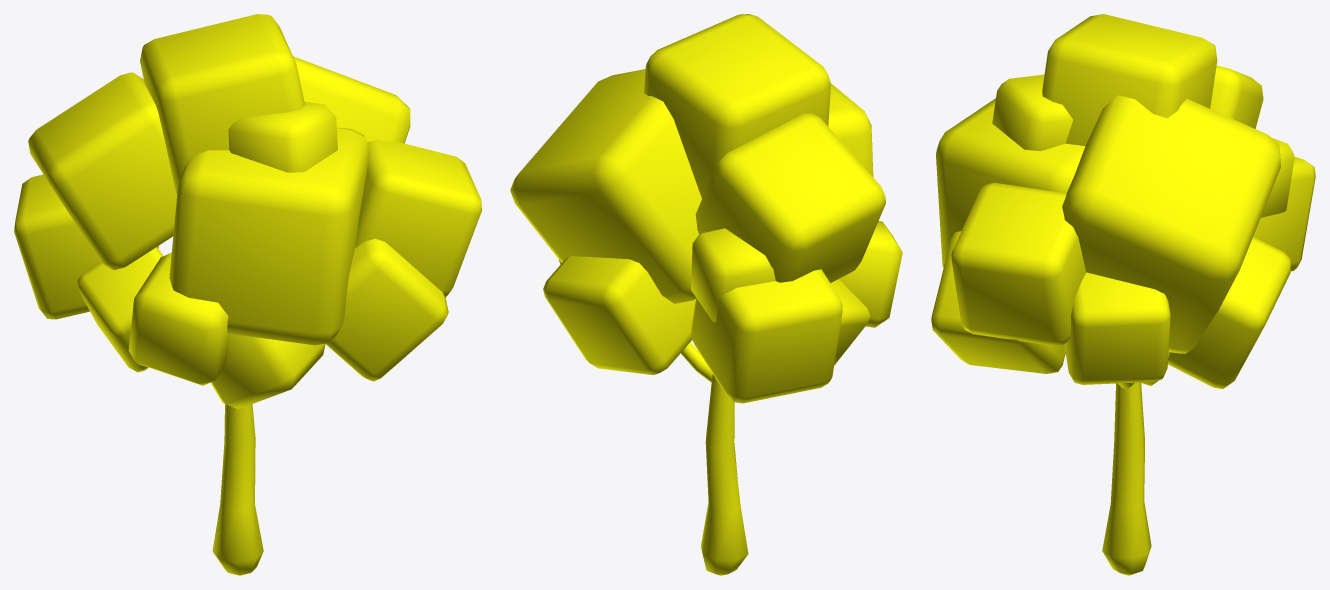
Rendered from kaykit-tree-2-e-color-1.glb.
The picture shows the model from 3 angles, left to right: view 1: azimuth 30°, elevation 25°; view 2: azimuth 150°, elevation 25°; view 3: azimuth 270°, elevation 25°; orthographic projection.
Visible parts, largest first — view 1: Tree_2_E_Color1; view 2: Tree_2_E_Color1; view 3: Tree_2_E_Color1.
Part boxes in pixels (<box>): Tree_2_E_Color1: <box>14,14,481,575</box>; Tree_2_E_Color1: <box>510,14,902,575</box>; Tree_2_E_Color1: <box>931,14,1315,575</box>.
Size of the model in its own units: 6.05 by 8.79 by 5.68.
